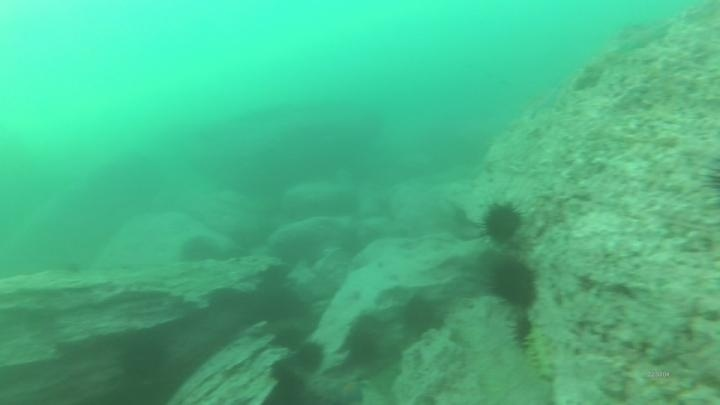echinus: (486, 256, 540, 310), (117, 335, 170, 384), (480, 199, 525, 246), (398, 294, 446, 338), (343, 327, 383, 367), (177, 233, 221, 266), (267, 368, 309, 402), (292, 339, 327, 374), (507, 311, 537, 351), (269, 323, 307, 352)
holothurian: (522, 321, 561, 384)
starfish: (328, 375, 369, 405)
